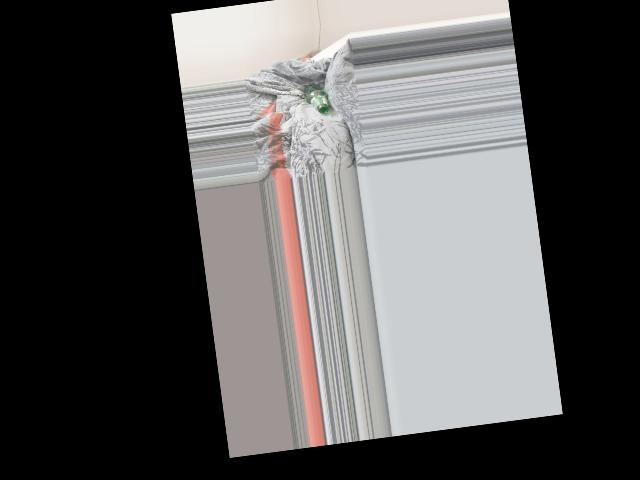beer: (303, 81, 330, 116)
